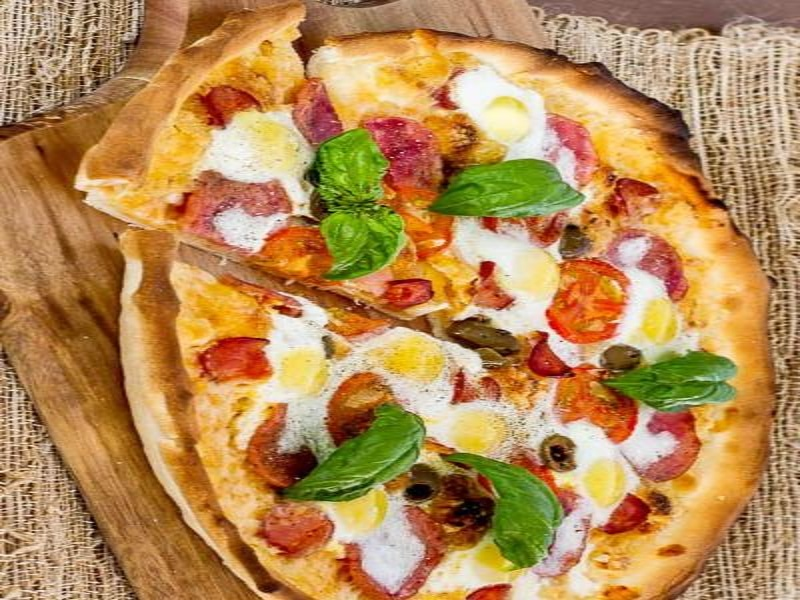oeuf: (376, 331, 462, 394), (461, 83, 540, 151), (273, 339, 336, 408), (238, 116, 304, 178), (578, 451, 636, 517), (446, 404, 515, 459), (635, 289, 688, 355)
